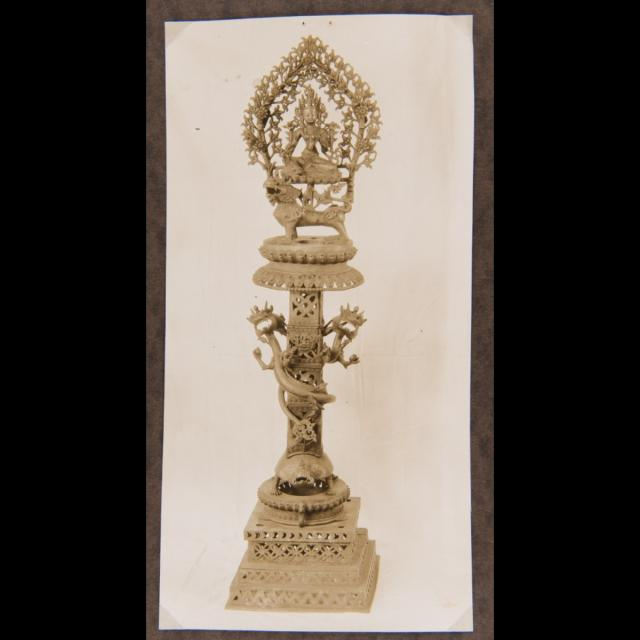buddha-sitting: (256, 84, 356, 180)
